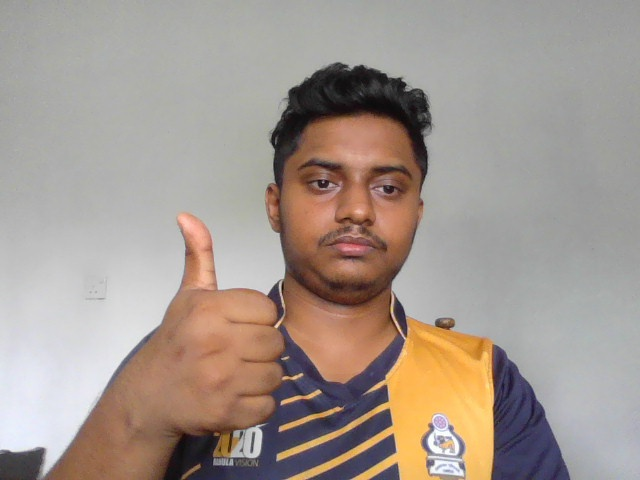Agree: (159, 210, 282, 434)
